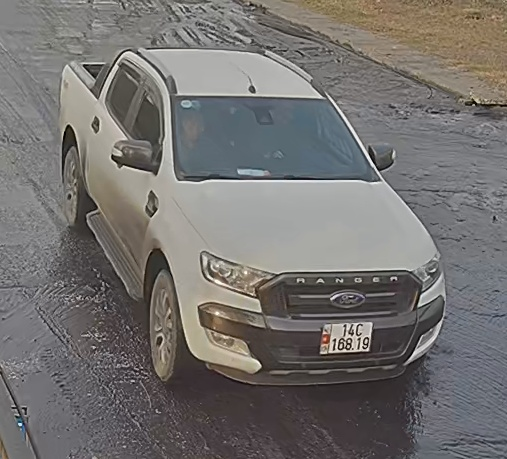vehicle plate: (316, 318, 381, 355)
